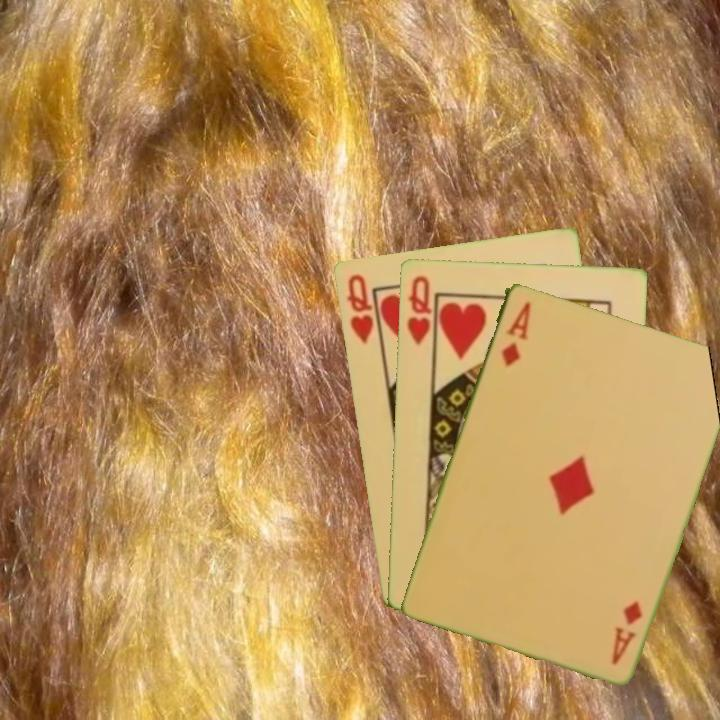Ad: (497, 297, 534, 369), (608, 597, 645, 667)
Qh: (342, 270, 376, 346), (403, 272, 434, 347)
